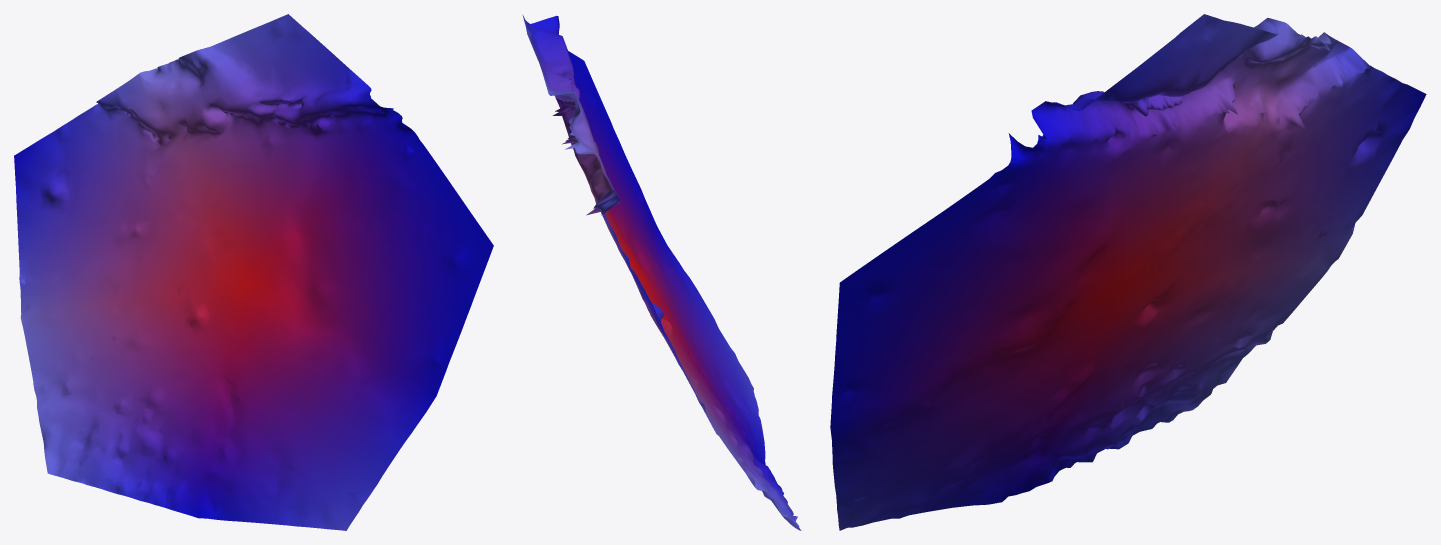
Rendered from Hex_42.fbx.
The picture shows the model from 3 angles, left to right: view 1: azimuth 30°, elevation 25°; view 2: azimuth 150°, elevation 25°; view 3: azimuth 270°, elevation 25°; orthographic projection. The views are drawn at different scales.
Parts seen in each view (by area): view 1: Hex_42; view 2: Hex_42; view 3: Hex_42.
Boxes of the visible parts, x1,y1,x2,y2 form: Hex_42: (14,14,493,530); Hex_42: (522,14,801,530); Hex_42: (830,14,1426,530).
Size of the model in its own units: 295 by 370 by 341.
